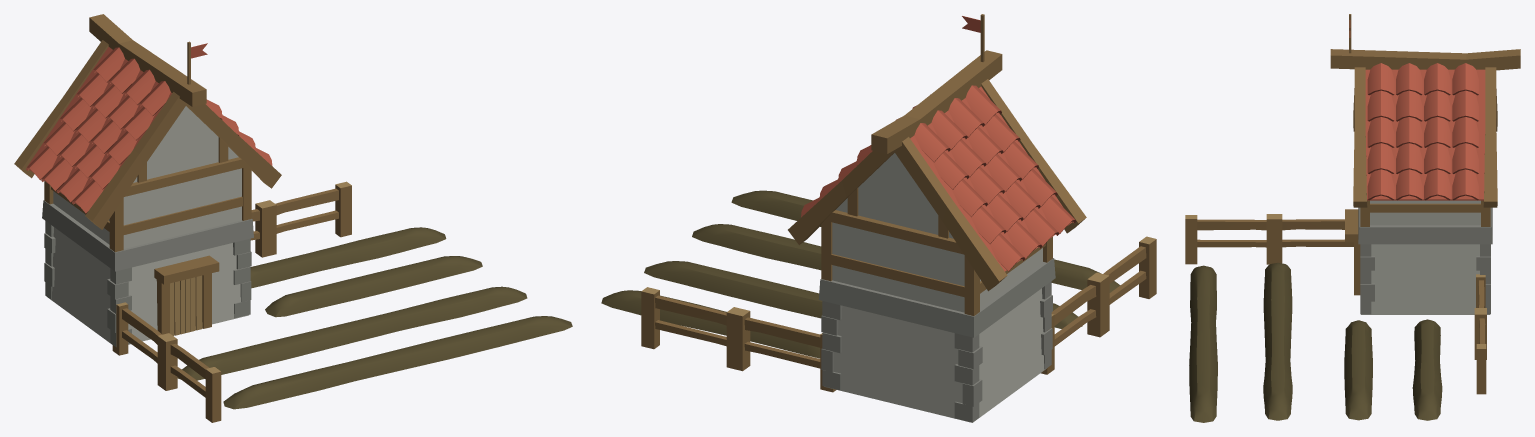
File: quaternius-ultimate-fantasy-rts-farm-secondage-level2.gltf
3 views of the same model, side by side, from view 1: azimuth 30°, elevation 25°; view 2: azimuth 150°, elevation 25°; view 3: azimuth 270°, elevation 25° (orthographic). The views are drawn at different scales.
Visible parts, largest first — view 1: Farm_SecondAge_Level2; view 2: Farm_SecondAge_Level2; view 3: Farm_SecondAge_Level2.
Boxes of the visible parts, <box> form: Farm_SecondAge_Level2: <box>14,14,572,422</box>; Farm_SecondAge_Level2: <box>601,14,1156,422</box>; Farm_SecondAge_Level2: <box>1185,14,1520,422</box>.
Size of the model in its own units: 1.83 by 1.31 by 1.45.
